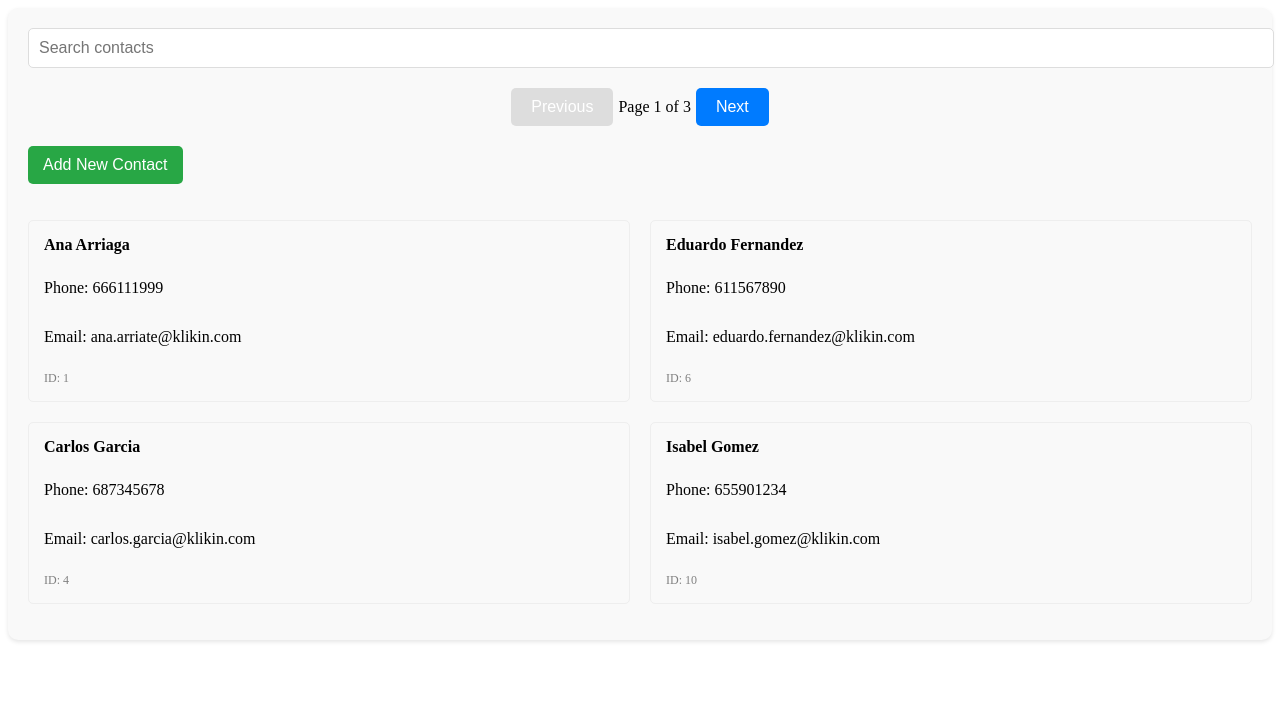
Test case: Contact List Pagination › should navigate to the next page
Click the next button
Step 1. Click the button "Next" → (733, 107), box [696, 88, 769, 126]
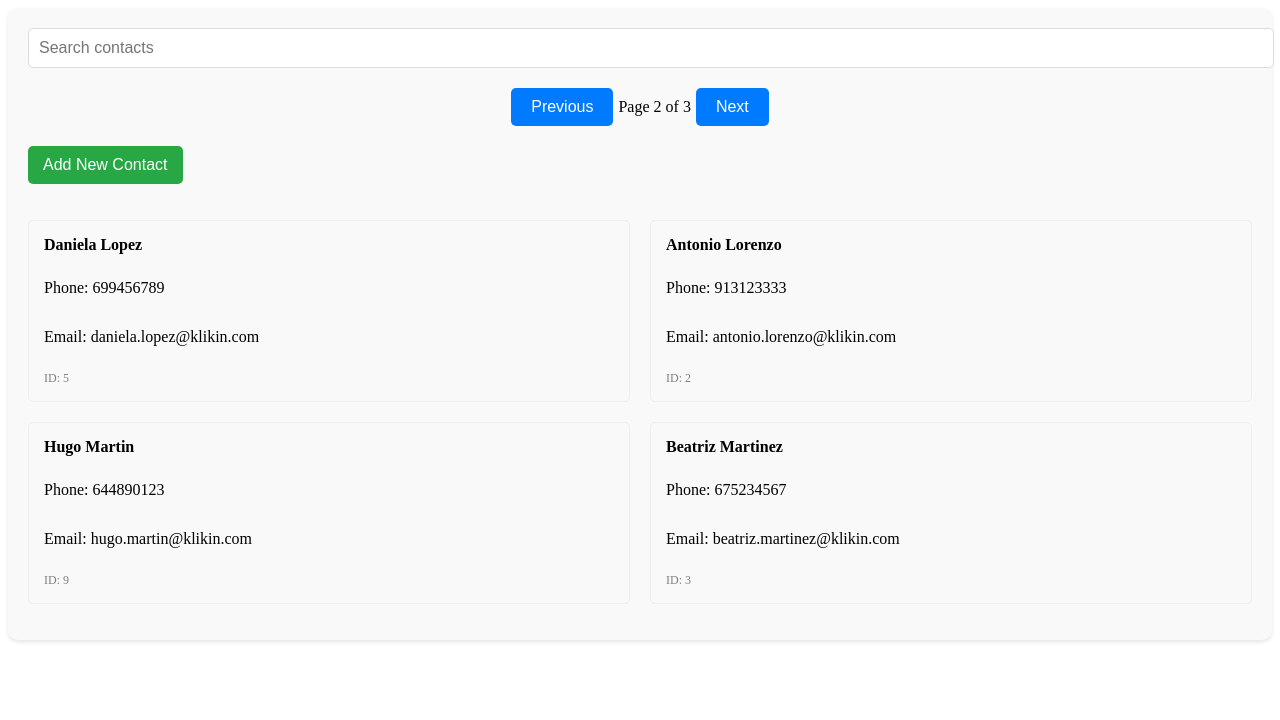
Expected: the text "Page 2 of 3" is shown, [618, 98, 691, 116]
